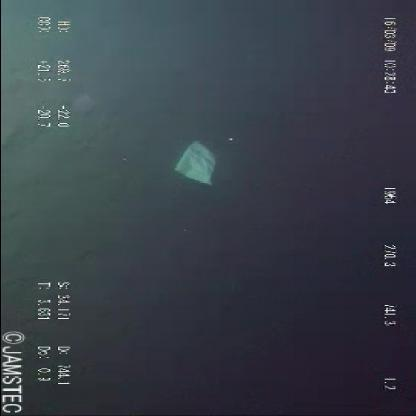Rác: (164, 133, 230, 187)
